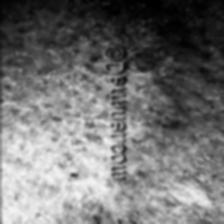Non-Cancerous Skin Condition: (0, 33, 102, 133)
